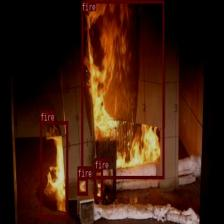fire: (81, 0, 164, 178), (40, 121, 68, 218), (94, 169, 102, 199), (77, 177, 87, 195)
